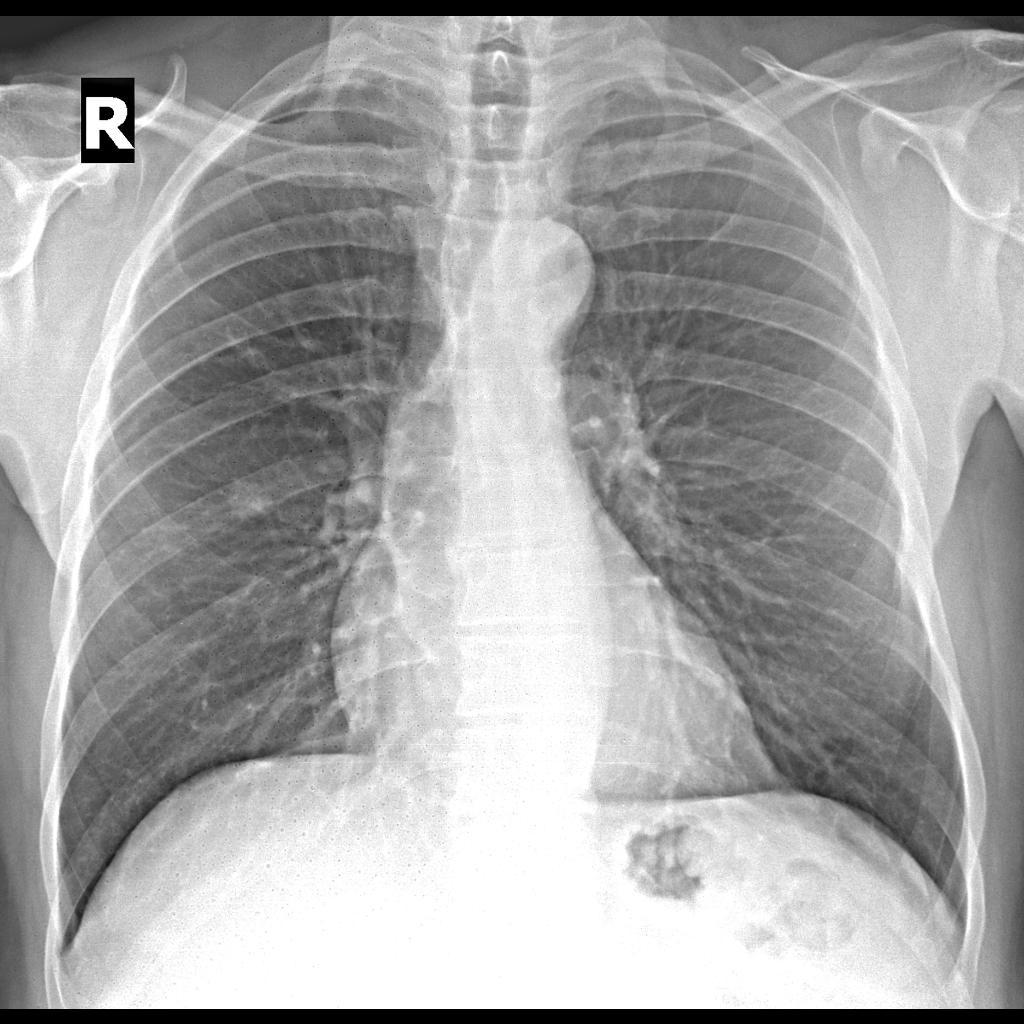Nodule: (219, 470, 275, 530)
